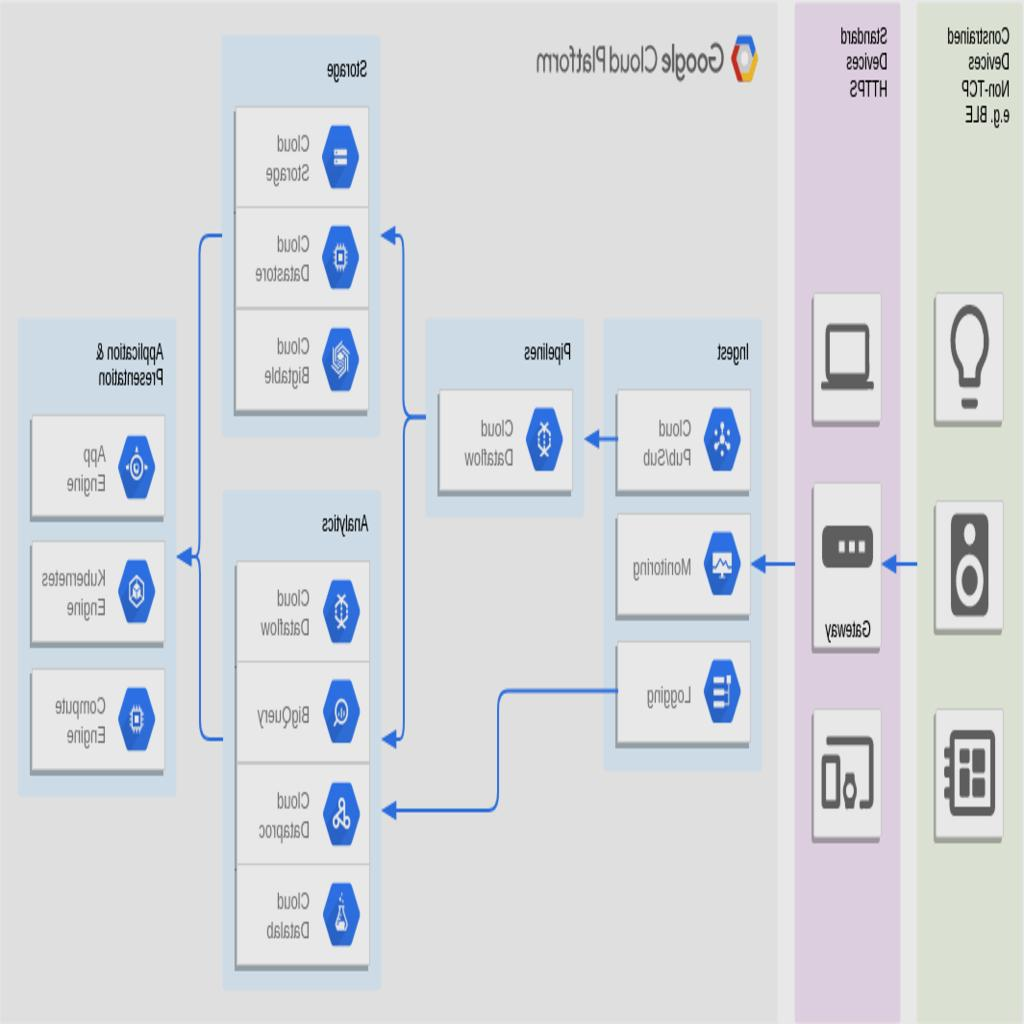actor: (937, 498, 1007, 632), (937, 706, 1007, 840), (814, 706, 884, 840), (937, 292, 1007, 425), (814, 292, 884, 425)
api_gateway: (614, 396, 754, 496)
compute: (438, 390, 576, 495), (614, 515, 754, 615), (614, 641, 754, 741), (234, 562, 372, 662), (234, 761, 372, 861), (234, 862, 372, 962), (30, 417, 165, 517), (30, 552, 165, 652), (30, 671, 165, 771)
data_flow: (388, 689, 616, 810), (190, 236, 230, 738), (387, 444, 426, 686), (387, 221, 426, 424), (900, 562, 918, 568), (772, 562, 790, 568), (599, 440, 615, 445)
database_storage: (234, 108, 372, 208), (234, 210, 372, 310), (234, 310, 372, 410), (234, 662, 372, 762)
network_security: (814, 498, 884, 632)
trust_boundary: (152, 5, 872, 1019), (796, 5, 902, 1019), (919, 5, 1024, 1019), (216, 489, 390, 986), (18, 320, 177, 796), (604, 317, 764, 768), (216, 34, 390, 438), (428, 318, 586, 522)
